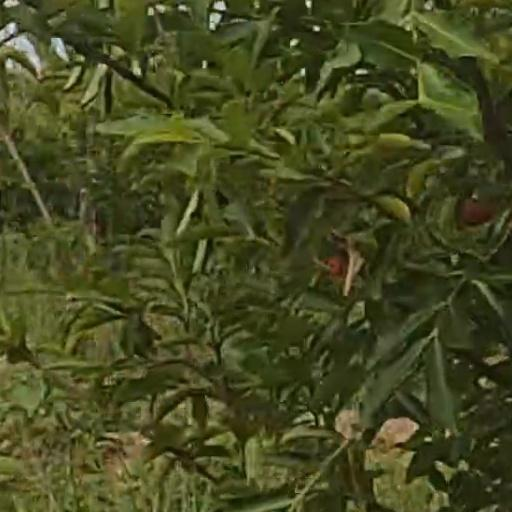acerola: (323, 258, 348, 275)
